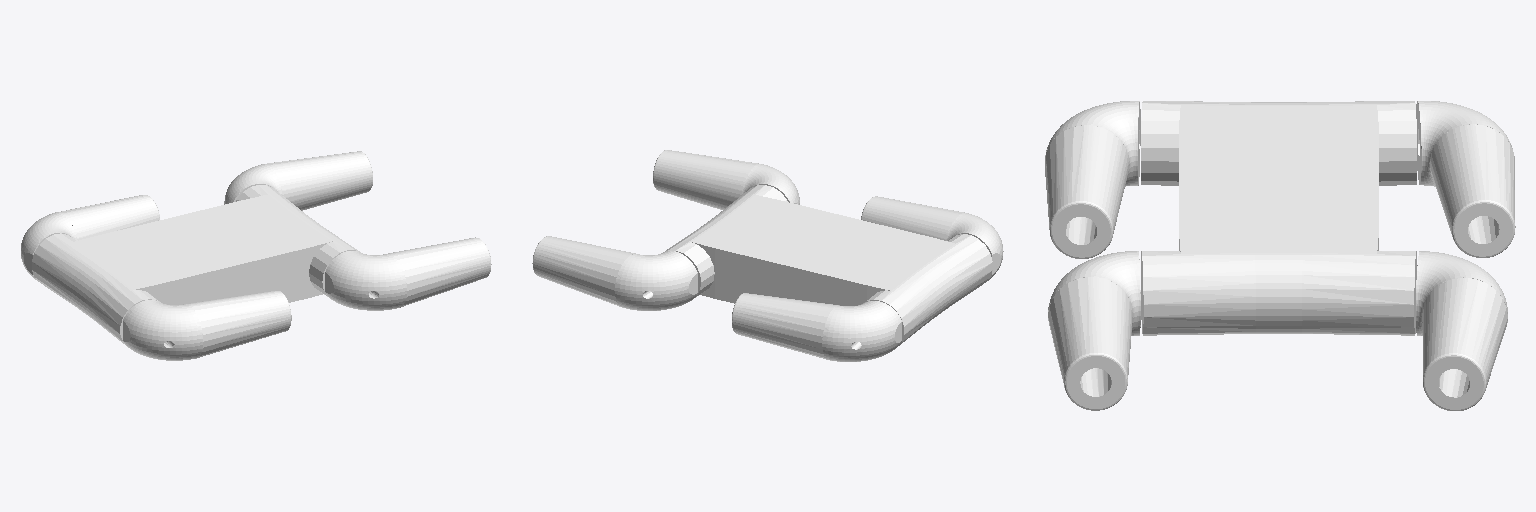
The robot description file, URDF, robot "2_degree":
<?xml version="1.0" encoding="utf-8"?>
<!-- This URDF was automatically created by SolidWorks to URDF Exporter! Originally created by [author] ([email redacted]) 
     Commit Version: 1.5.1-0-g916b5db  Build Version: 1.5.7152.31018
     For more information, please see http://wiki.ros.org/sw_urdf_exporter -->
<robot
  name="2_degree">
  <link
    name="base_link">
    <inertial>
      <origin
        xyz="0 6.5963E-09 1.7347E-18"
        rpy="0 0 0" />
      <mass
        value="2.942" />
      <inertia
        ixx="0.0103111"
        ixy="1.6792E-19"
        ixz="-1.4864E-10"
        iyy="0.0378051"
        iyz="3.8926E-19"
        izz="0.0457293" />
    </inertial>
    <visual>
      <origin
        xyz="0 0 0"
        rpy="0 0 0" />
      <geometry>
        <mesh
          filename="package://2_degree/meshes/base_link.STL" />
      </geometry>
      <material
        name="">
        <color
          rgba="1 1 1 1" />
      </material>
    </visual>
    <collision>
      <origin
        xyz="0 0 0"
        rpy="0 0 0" />
      <geometry>
        <mesh
          filename="package://2_degree/meshes/base_link.STL" />
      </geometry>
    </collision>
  </link>
  <link
    name="left_front_link">
    <inertial>
      <origin
        xyz="-2.428E-08 0.05683 -0.036011"
        rpy="0 0 0" />
      <mass
        value="0.092" />
      <inertia
        ixx="0.0002604"
        ixy="6.4494E-10"
        ixz="6.0168E-10"
        iyy="0.0000526"
        iyz="2.27E-05"
        izz="0.0002575" />
    </inertial>
    <visual>
      <origin
        xyz="0 0 0"
        rpy="0 0 0" />
      <geometry>
        <mesh
          filename="package://2_degree/meshes/left_front_link.STL" />
      </geometry>
      <material
        name="">
        <color
          rgba="1 1 1 1" />
      </material>
    </visual>
    <collision>
      <origin
        xyz="0 0 0"
        rpy="0 0 0" />
      <geometry>
        <mesh
          filename="package://2_degree/meshes/left_front_link.STL" />
      </geometry>
    </collision>
  </link>
  <joint
    name="left_front_leg"
    type="continuous">
    <origin
      xyz="0.13359 0.10294 0"
      rpy="1.6057 1.5708 0" />
    <parent
      link="base_link" />
    <child
      link="left_front_link" />
    <axis
      xyz="0 0 -1" />
    <limit
      effort="5"
      velocity="487" />
  </joint>
  <link
    name="right_front_link">
    <inertial>
      <origin
        xyz="2.428E-08 0.05683 0.036011"
        rpy="0 0 0" />
      <mass
        value="0.092" />
      <inertia
        ixx="0.0002604"
        ixy="-6.4494E-10"
        ixz="6.0168E-10"
        iyy="0.0000526"
        iyz="-2.27E-05"
        izz="0.0002575" />
    </inertial>
    <visual>
      <origin
        xyz="0 0 0"
        rpy="0 0 0" />
      <geometry>
        <mesh
          filename="package://2_degree/meshes/right_front_link.STL" />
      </geometry>
      <material
        name="">
        <color
          rgba="1 1 1 1" />
      </material>
    </visual>
    <collision>
      <origin
        xyz="0 0 0"
        rpy="0 0 0" />
      <geometry>
        <mesh
          filename="package://2_degree/meshes/right_front_link.STL" />
      </geometry>
    </collision>
  </link>
  <joint
    name="right_front_leg"
    type="continuous">
    <origin
      xyz="0.13359 -0.10294 0"
      rpy="1.5359 1.5708 0" />
    <parent
      link="base_link" />
    <child
      link="right_front_link" />
    <axis
      xyz="0 0 1" />
    <limit
      effort="5"
      velocity="487" />
  </joint>
  <link
    name="right_back_link">
    <inertial>
      <origin
        xyz="1.2089E-08 0.05683 0.036011"
        rpy="0 0 0" />
      <mass
        value="0.092" />
      <inertia
        ixx="0.0002604"
        ixy="-7.2354E-10"
        ixz="7.2363E-10"
        iyy="0.0000526"
        iyz="-2.27E-05"
        izz="0.0002575" />
    </inertial>
    <visual>
      <origin
        xyz="0 0 0"
        rpy="0 0 0" />
      <geometry>
        <mesh
          filename="package://2_degree/meshes/right_back_link.STL" />
      </geometry>
      <material
        name="">
        <color
          rgba="1 1 1 1" />
      </material>
    </visual>
    <collision>
      <origin
        xyz="0 0 0"
        rpy="0 0 0" />
      <geometry>
        <mesh
          filename="package://2_degree/meshes/right_back_link.STL" />
      </geometry>
    </collision>
  </link>
  <joint
    name="right_back_leg"
    type="continuous">
    <origin
      xyz="-0.13359 -0.10294 0"
      rpy="1.6057 1.5708 0" />
    <parent
      link="base_link" />
    <child
      link="right_back_link" />
    <axis
      xyz="0 0 1" />
    <limit
      effort="5"
      velocity="487" />
  </joint>
  <link
    name="left_back_link">
    <inertial>
      <origin
        xyz="-1.2089E-08 0.05683 -0.036011"
        rpy="0 0 0" />
      <mass
        value="0.092" />
      <inertia
        ixx="0.0002604"
        ixy="7.2354E-10"
        ixz="7.2363E-10"
        iyy="0.0000526"
        iyz="2.27E-05"
        izz="0.0002575" />
    </inertial>
    <visual>
      <origin
        xyz="0 0 0"
        rpy="0 0 0" />
      <geometry>
        <mesh
          filename="package://2_degree/meshes/left_back_link.STL" />
      </geometry>
      <material
        name="">
        <color
          rgba="1 1 1 1" />
      </material>
    </visual>
    <collision>
      <origin
        xyz="0 0 0"
        rpy="0 0 0" />
      <geometry>
        <mesh
          filename="package://2_degree/meshes/left_back_link.STL" />
      </geometry>
    </collision>
  </link>
  <joint
    name="left_back_leg"
    type="continuous">
    <origin
      xyz="-0.13359 0.10294 0"
      rpy="1.5359 1.5708 0" />
    <parent
      link="base_link" />
    <child
      link="left_back_link" />
    <axis
      xyz="0 0 -1" />
    <limit
      effort="5"
      velocity="487" />
  </joint>
</robot>

--- Facts derived from the render (not from the file) ---
Views: 3 orthographic renders of the robot side by side, from view 1: azimuth 30°, elevation 25°; view 2: azimuth 150°, elevation 25°; view 3: azimuth 270°, elevation 25°.
Model 2_degree with 5 links and 4 joints (4 continuous), rooted at base_link, posed all joints at 0.
Visible links, largest first — view 1: base_link, right_back_link, right_front_link, left_front_link, left_back_link; view 2: base_link, left_back_link, left_front_link, right_front_link, right_back_link; view 3: base_link, left_back_link, right_back_link, left_front_link, right_front_link.
Link boxes in pixels (x1,y1,x2,y2): base_link: (32, 185, 359, 343); right_back_link: (123, 290, 291, 360); right_front_link: (325, 237, 491, 310); left_front_link: (224, 151, 372, 210); left_back_link: (21, 195, 159, 280); base_link: (665, 185, 992, 345); left_back_link: (732, 293, 901, 361); left_front_link: (532, 236, 697, 310); right_front_link: (653, 150, 799, 209); right_back_link: (861, 196, 1003, 280); base_link: (1141, 101, 1416, 335); left_back_link: (1416, 101, 1515, 257); right_back_link: (1045, 101, 1140, 258); left_front_link: (1416, 251, 1507, 410); right_front_link: (1048, 251, 1140, 410).
Size in the robot's own frame: 0.4607 by 0.3544 by 0.064 metres.
5 mesh visuals loaded from 5 distinct referenced files (5 binary STL).